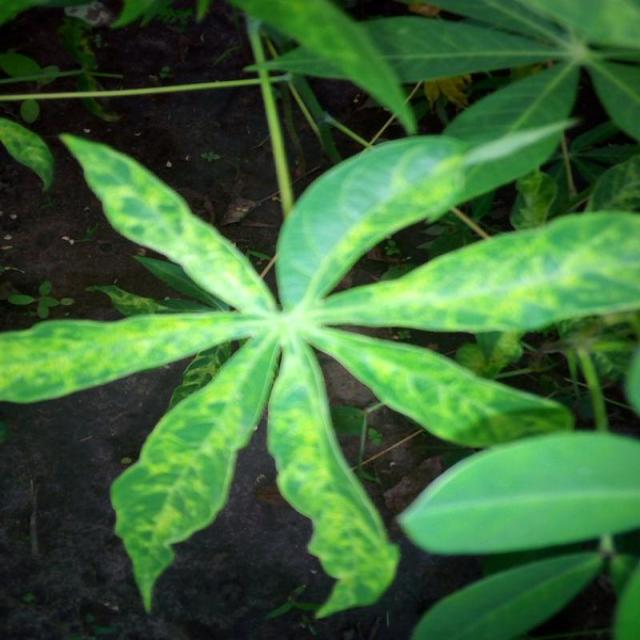cassava leaf: (0, 114, 638, 617), (395, 428, 639, 556)
